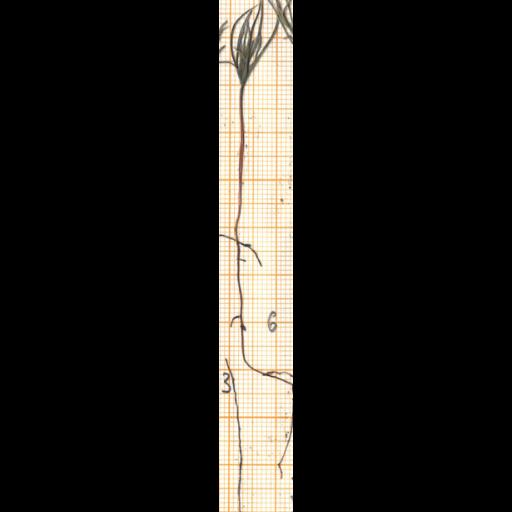flowerPinus: (229, 0, 279, 86)
rootPinus: (233, 237, 294, 390), (234, 389, 242, 510), (279, 423, 294, 477)
stemPinus: (233, 85, 245, 238)
